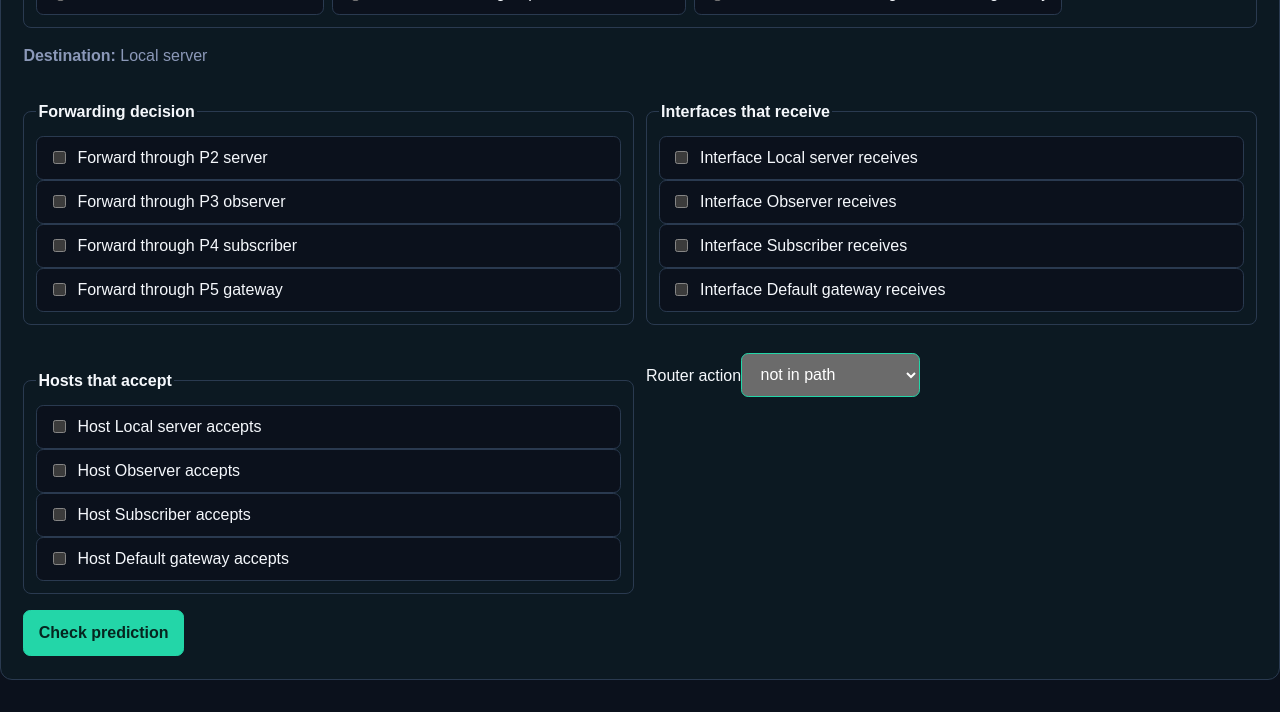
Test case: DeliveryScopeLab › gives targeted coaching for every incorrect prediction dimension
(page scrolled)
Click the button "Check prediction".
click(104, 633)  # box top-left (23, 610), bottom-right (184, 656)
(page scrolled)
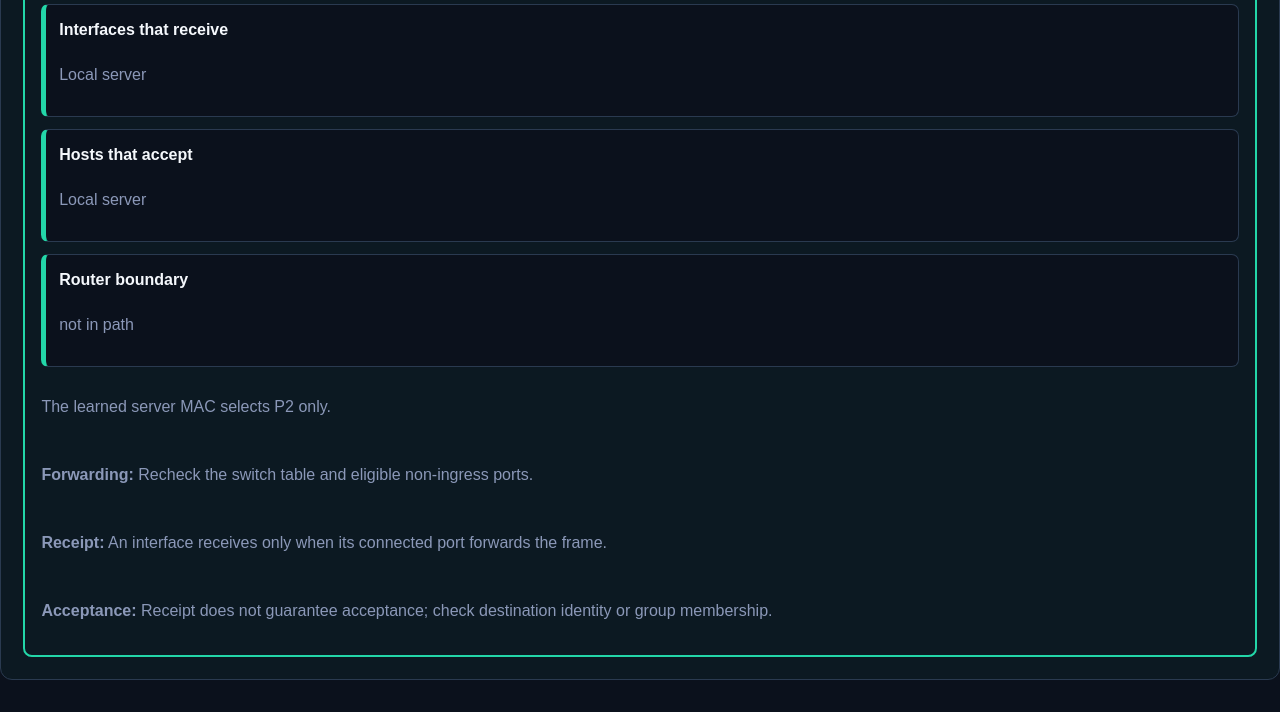
Expected: the text "Recheck the switch table" is shown, top-left (138, 466), bottom-right (533, 483)
Expected: the text "An interface receives only" is shown, top-left (108, 534), bottom-right (607, 551)
Expected: the text "Receipt does not guarantee acceptance" is shown, top-left (141, 602), bottom-right (772, 619)
